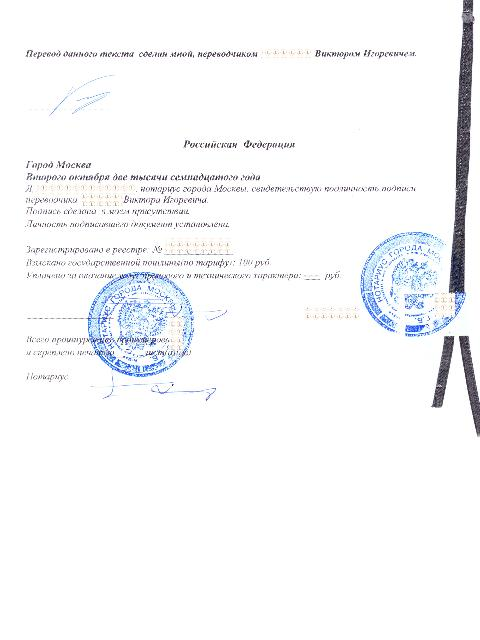stamp: (87, 273, 193, 379), (359, 231, 465, 335)
